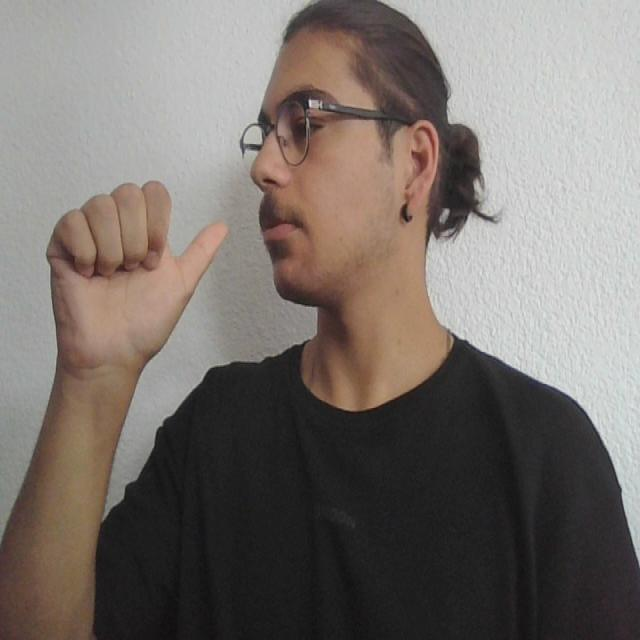icmek: (42, 158, 294, 378)
